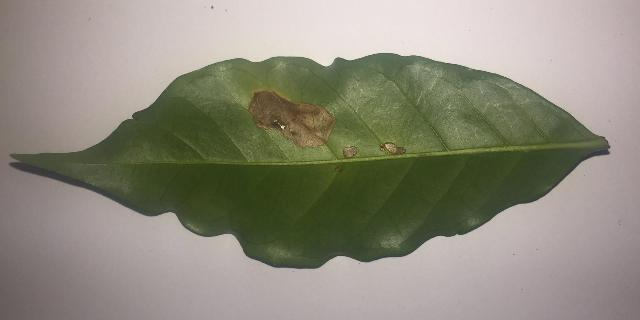cercospora: (248, 89, 336, 148), (380, 142, 406, 154), (342, 146, 357, 158)
